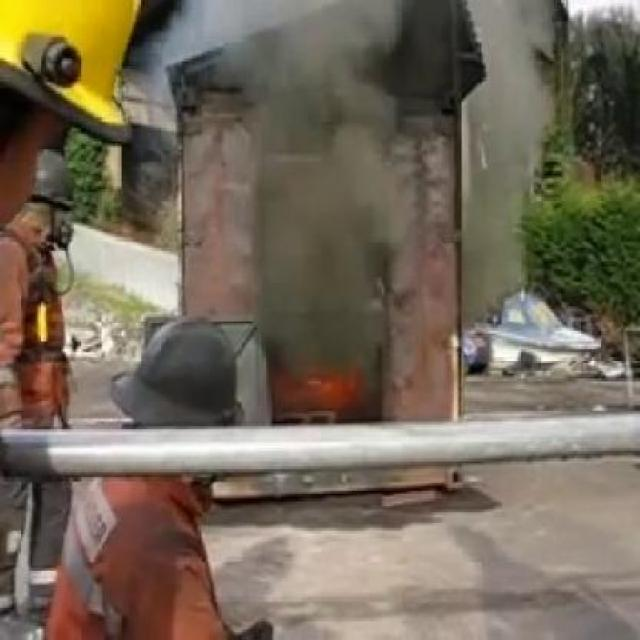fire: (278, 378, 370, 417)
smoke: (248, 56, 396, 355), (466, 154, 519, 310), (202, 8, 388, 48), (488, 15, 534, 150)
